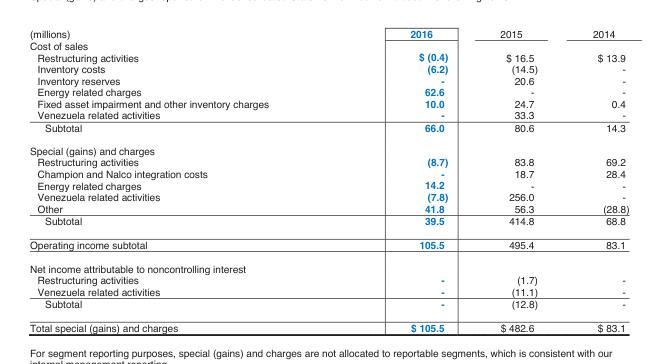table: (28, 28, 628, 333)
table column: (28, 28, 338, 333), (338, 28, 473, 333), (473, 28, 564, 333), (564, 28, 628, 333)
table column header: (28, 28, 628, 40)
table projected row header: (28, 256, 628, 274), (28, 139, 628, 156), (28, 40, 628, 51)
table row: (28, 233, 628, 256), (28, 121, 628, 139), (28, 215, 628, 233), (28, 256, 628, 274), (28, 298, 628, 316), (28, 139, 628, 156), (28, 316, 628, 333), (28, 28, 628, 40), (28, 51, 628, 63), (28, 63, 628, 75), (28, 86, 628, 98), (28, 109, 628, 121), (28, 156, 628, 168), (28, 168, 628, 180), (28, 191, 628, 203), (28, 203, 628, 215), (28, 274, 628, 286), (28, 286, 628, 298), (28, 40, 628, 51), (28, 75, 628, 86), (28, 98, 628, 109), (28, 180, 628, 191)
